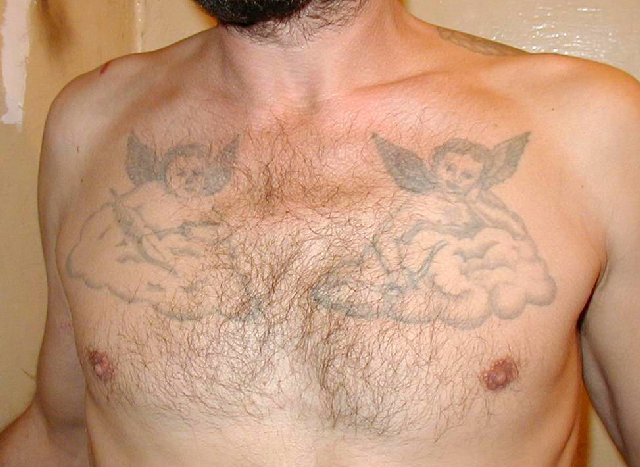tatu1_angel: (357, 116, 537, 269), (81, 122, 257, 268)
